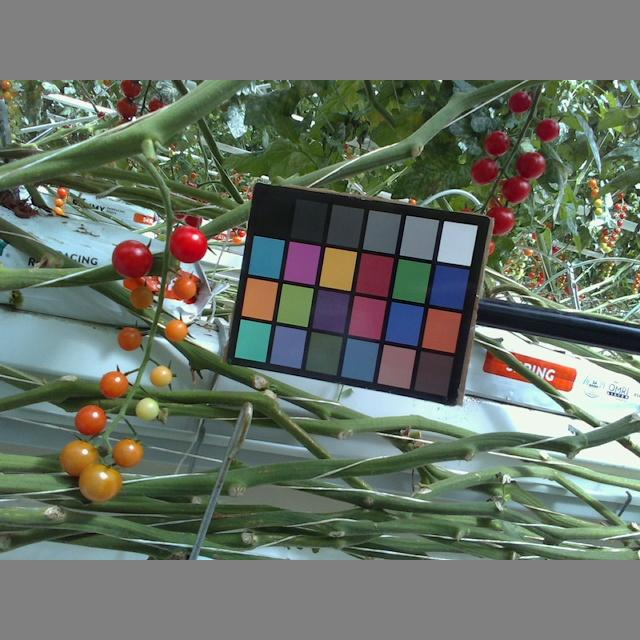green: (135, 398, 160, 421), (149, 365, 170, 388)
pink: (78, 464, 123, 503), (58, 439, 100, 479), (73, 403, 108, 435), (99, 371, 130, 401), (112, 440, 144, 468), (172, 274, 197, 302), (128, 286, 155, 311), (117, 326, 143, 349), (164, 319, 190, 340)
red: (111, 238, 155, 280), (169, 224, 206, 263), (487, 203, 515, 237), (516, 150, 545, 181), (501, 177, 531, 206), (468, 157, 500, 184), (483, 132, 513, 157), (505, 89, 532, 113), (536, 117, 559, 143)
